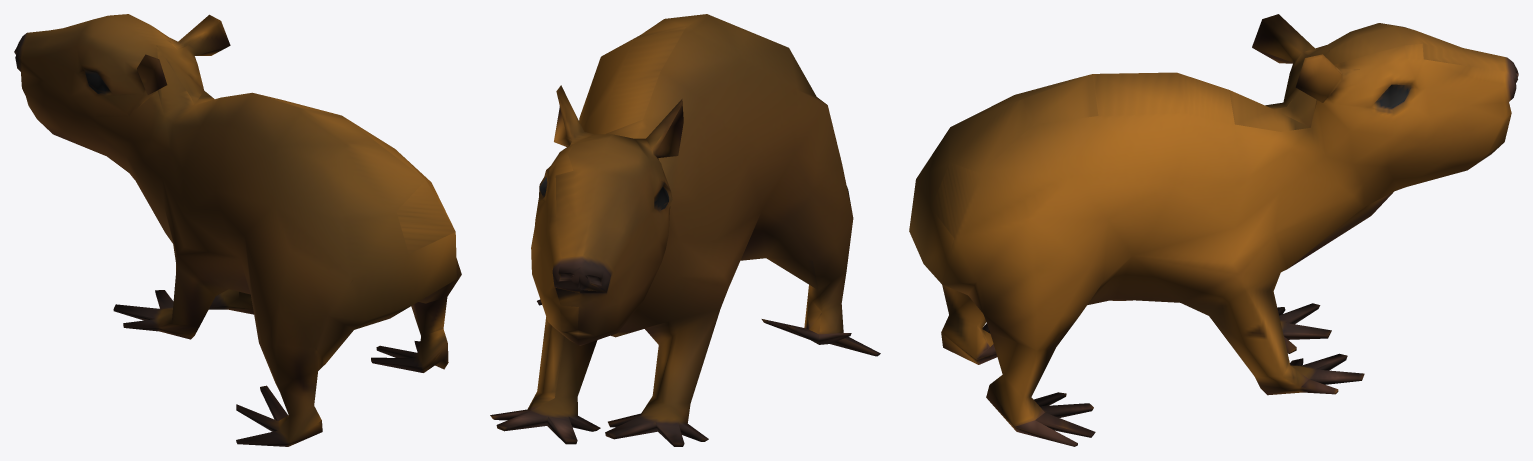
File: baby_capy.gltf
3 renders of one model, left to right at view 1: azimuth 30°, elevation 25°; view 2: azimuth 150°, elevation 25°; view 3: azimuth 270°, elevation 25°, orthographic. The views are drawn at different scales.
Parts seen in each view (by area): view 1: baby.capy; view 2: baby.capy; view 3: baby.capy.
Part boxes in pixels (x1,y1,x2,y2): baby.capy: (14,14,461,446); baby.capy: (490,14,880,446); baby.capy: (909,14,1518,446).
Bounding box in the file's own units: 0.6723 × 0.7877 × 1.27.
Materials: 1 (1 with a texture image).
